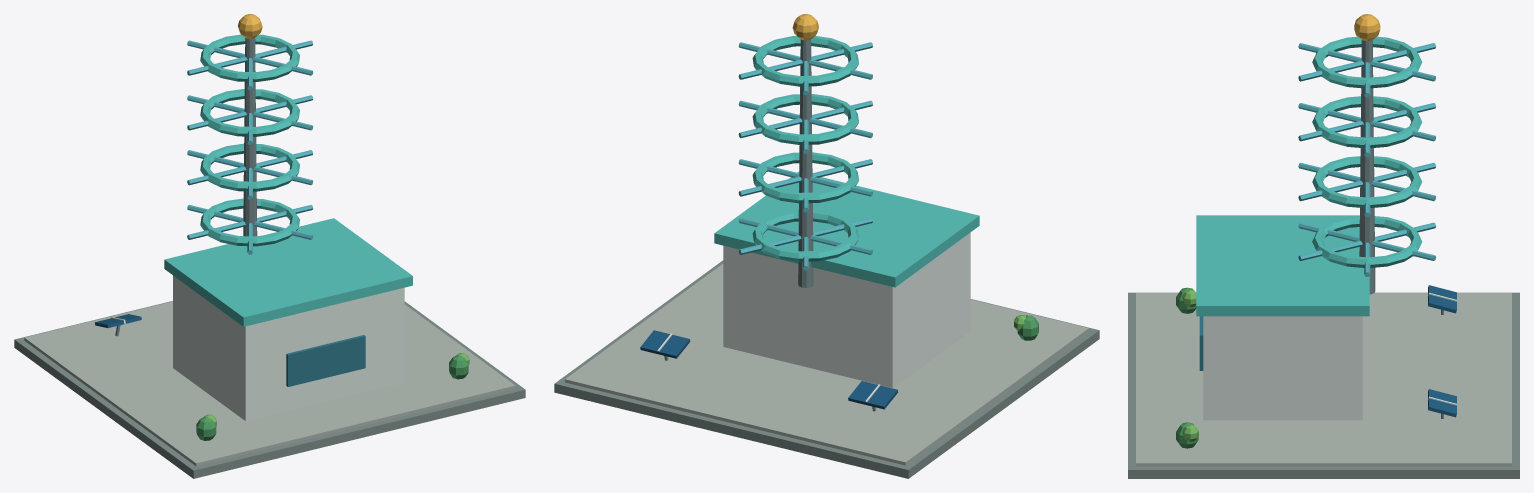
The model's file is uv_station_lv2.glb.
3 views of the same model, side by side, from view 1: azimuth 30°, elevation 25°; view 2: azimuth 150°, elevation 25°; view 3: azimuth 270°, elevation 25° (orthographic). The views are drawn at different scales.
Visible parts, largest first — view 1: concrete, turquoise, white, pavement, glass, glassDark, steel, green; view 2: concrete, white, turquoise, pavement, glass, steel, solar; view 3: concrete, turquoise, white, pavement, glass, steel, solar, gold, green, foliage.
Boxes of the visible parts, left/top/right/bottom form: concrete: left=24, top=301, right=515, bottom=466; turquoise: left=164, top=34, right=412, bottom=326; white: left=111, top=275, right=404, bottom=421; pavement: left=14, top=301, right=525, bottom=478; glass: left=187, top=40, right=313, bottom=254; glassDark: left=286, top=335, right=365, bottom=386; steel: left=115, top=38, right=257, bottom=336; green: left=196, top=355, right=468, bottom=440; concrete: left=565, top=264, right=1088, bottom=465; white: left=657, top=232, right=970, bottom=402; turquoise: left=714, top=36, right=979, bottom=287; pavement: left=554, top=260, right=1099, bottom=478; glass: left=738, top=42, right=872, bottom=270; steel: left=664, top=39, right=876, bottom=411; solar: left=640, top=330, right=898, bottom=409; concrete: left=1136, top=293, right=1511, bottom=466; turquoise: left=1196, top=36, right=1422, bottom=316; white: left=1203, top=292, right=1456, bottom=420; pavement: left=1128, top=292, right=1519, bottom=478; glass: left=1298, top=43, right=1435, bottom=276; steel: left=1359, top=40, right=1443, bottom=418; solar: left=1428, top=285, right=1456, bottom=417; gold: left=1354, top=14, right=1380, bottom=41; green: left=1176, top=287, right=1198, bottom=448; foliage: left=1182, top=289, right=1198, bottom=441.
Size of the model in its own units: 9.2 by 9.09 by 8.6.
